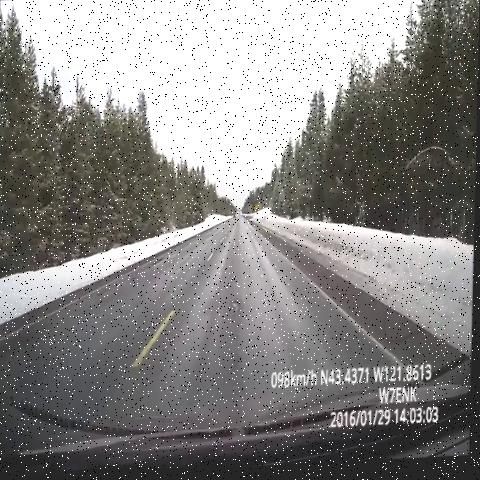pothole: (223, 294, 250, 334)
